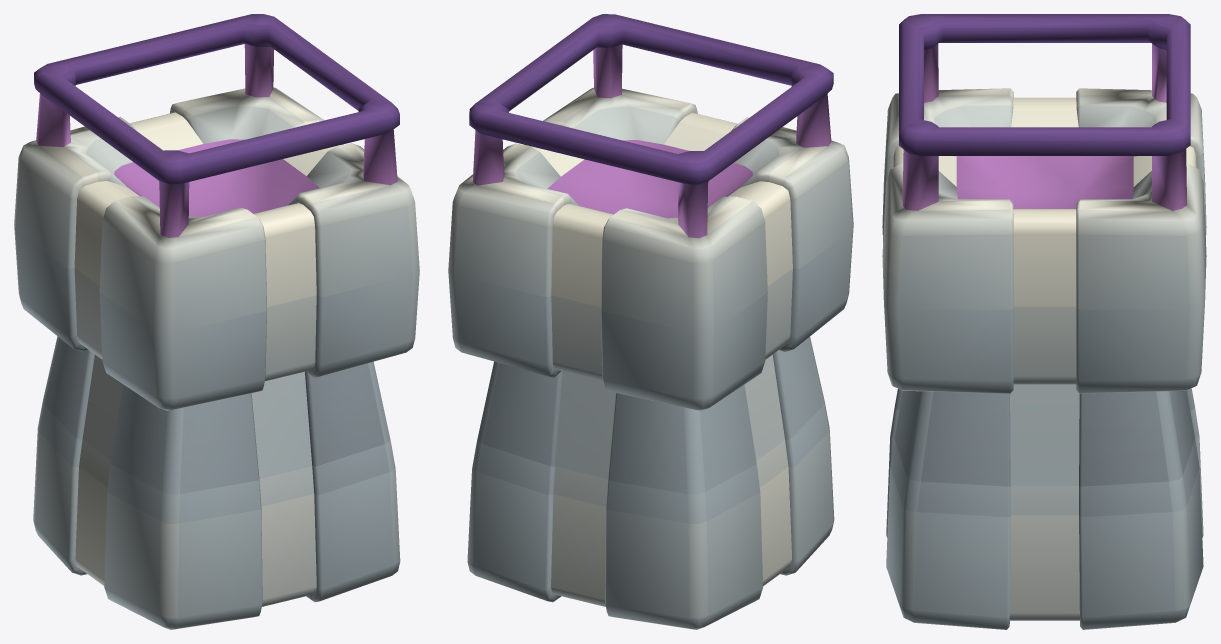
Rendered from AbilityStand.fbx.
The picture shows the model from 3 angles, left to right: view 1: azimuth 30°, elevation 25°; view 2: azimuth 150°, elevation 25°; view 3: azimuth 270°, elevation 25°; orthographic projection. The views are drawn at different scales.
Parts seen in each view (by area): view 1: AbilityStand_LOD0; view 2: AbilityStand_LOD0; view 3: AbilityStand_LOD0.
Part boxes in pixels (x1=…): AbilityStand_LOD0: x1=14, y1=14, x2=419, y2=629; AbilityStand_LOD0: x1=448, y1=14, x2=853, y2=629; AbilityStand_LOD0: x1=882, y1=14, x2=1206, y2=629.
Size of what is drawn, in the model's own units: 0.8069 by 1.37 by 0.8069.
